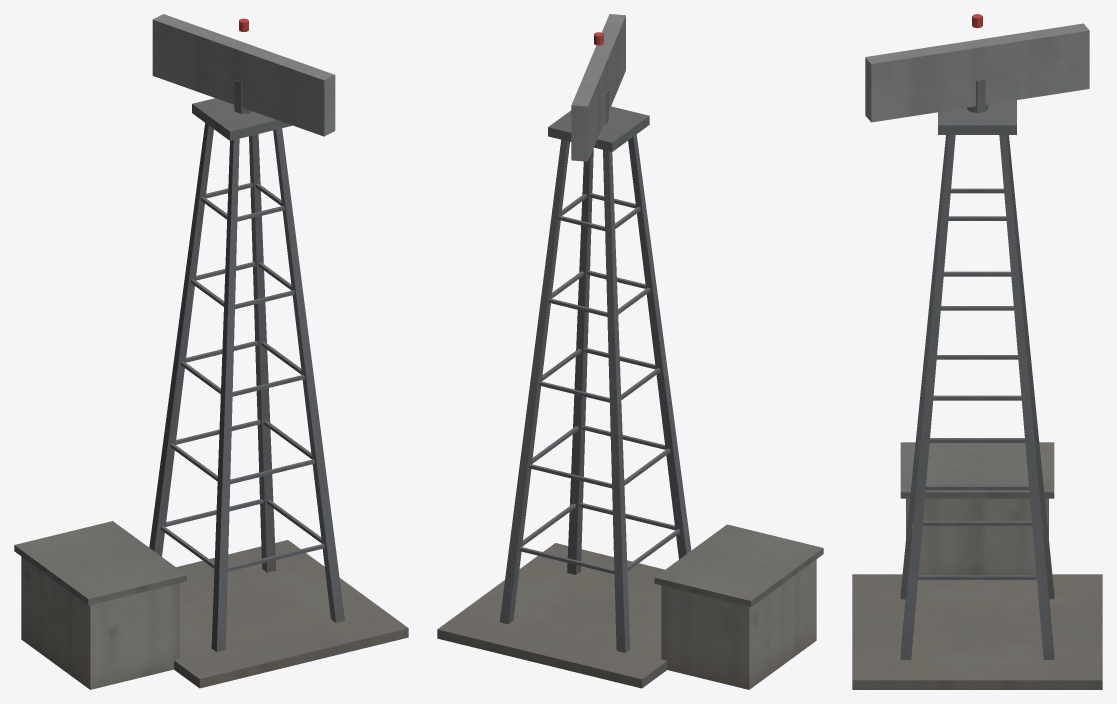
Rendered from a03_radar_mast.glb.
3 renders of one model, left to right at view 1: azimuth 30°, elevation 25°; view 2: azimuth 150°, elevation 25°; view 3: azimuth 270°, elevation 25°, orthographic. The views are drawn at different scales.
Parts seen in each view (by area): view 1: body; view 2: body; view 3: body.
Part boxes in pixels (x1,y1,x2,y2): body: [14, 14, 408, 689]; body: [437, 14, 823, 689]; body: [852, 14, 1102, 689].
Size of the model in its own units: 1 by 1.92 by 0.7035.
Materials: 1 (1 with a texture image).
